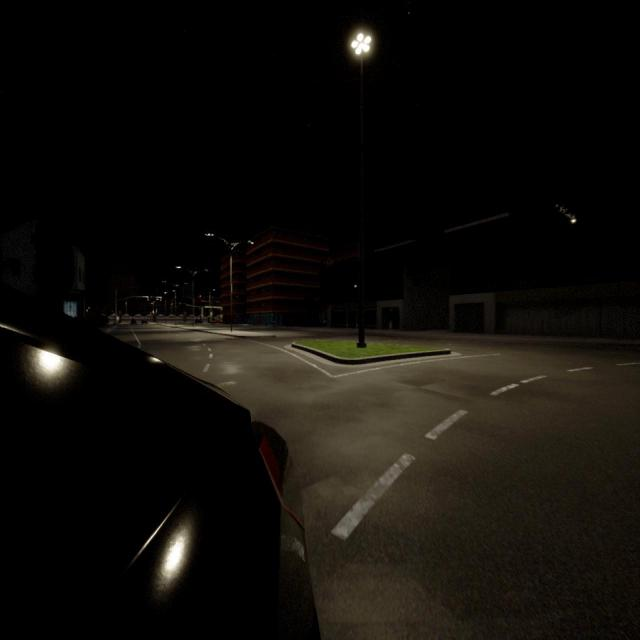Vehicle: (0, 299, 312, 640), (212, 318, 222, 324), (142, 319, 148, 325), (196, 318, 202, 323), (131, 319, 136, 325)
traffic_light: (198, 295, 202, 299)
